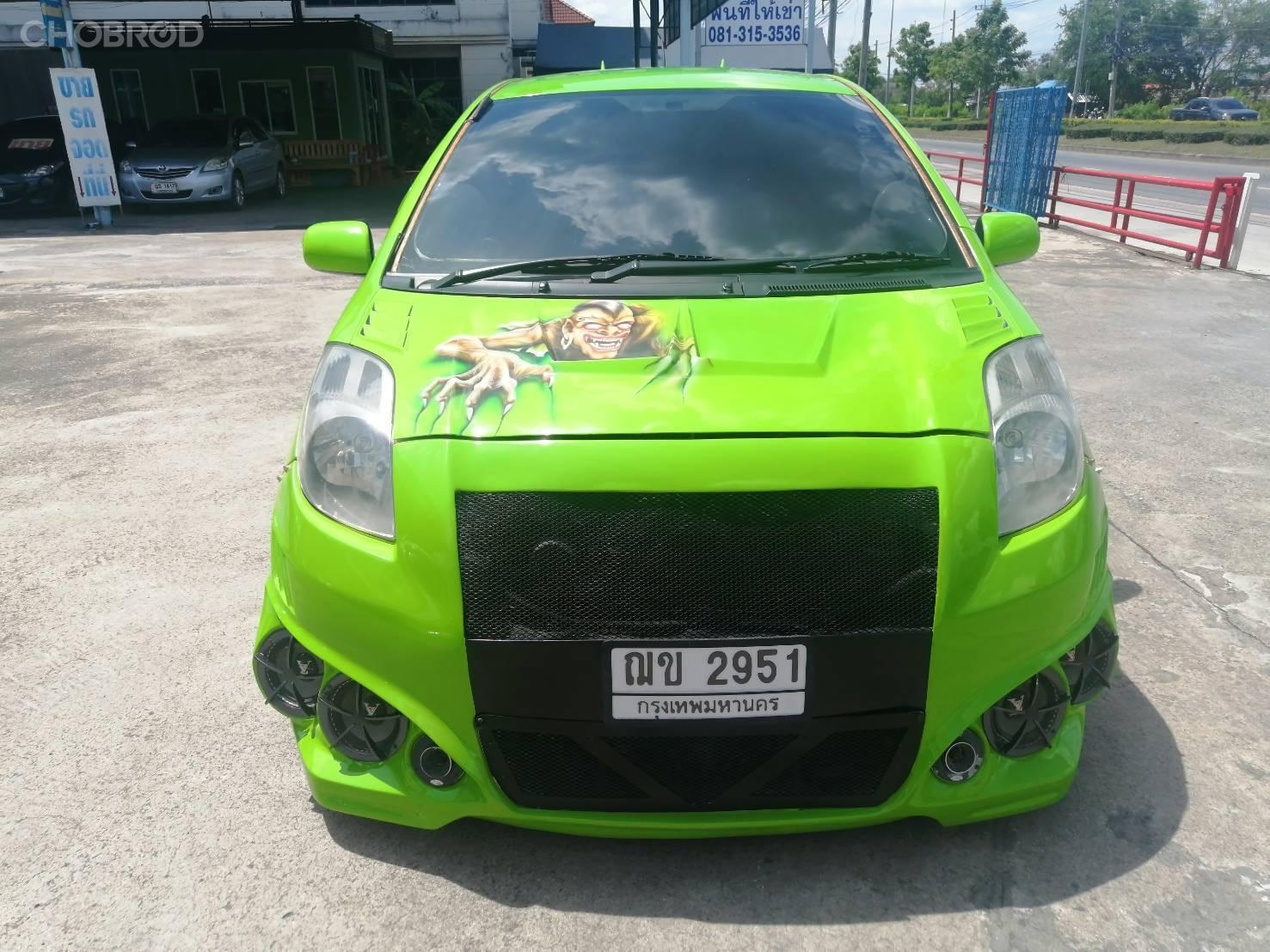license-plate: (598, 632, 813, 727)
